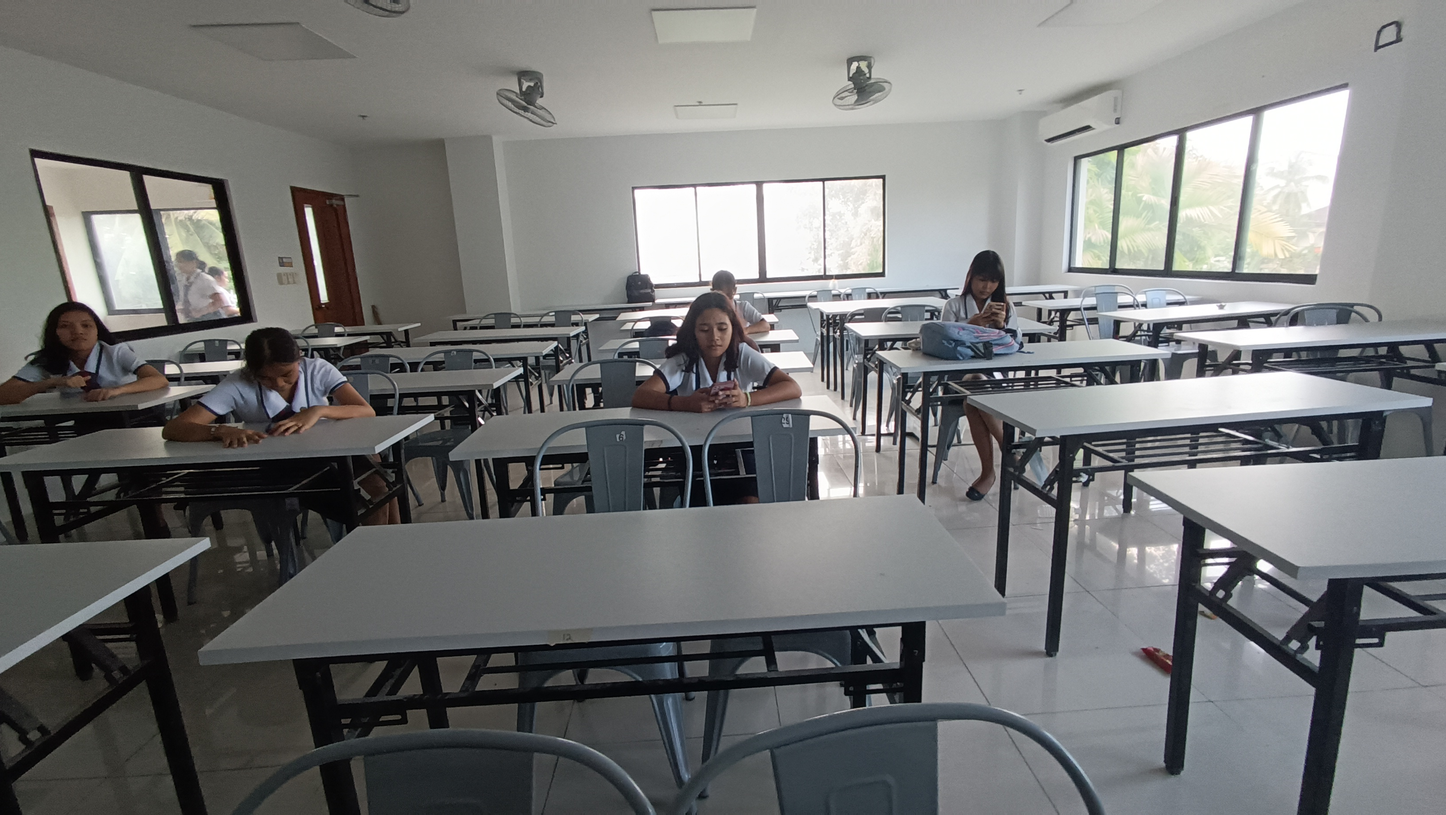with-student: (439, 282, 858, 477), (1, 326, 436, 493), (873, 247, 1178, 388), (1, 298, 220, 424), (598, 268, 798, 350)
